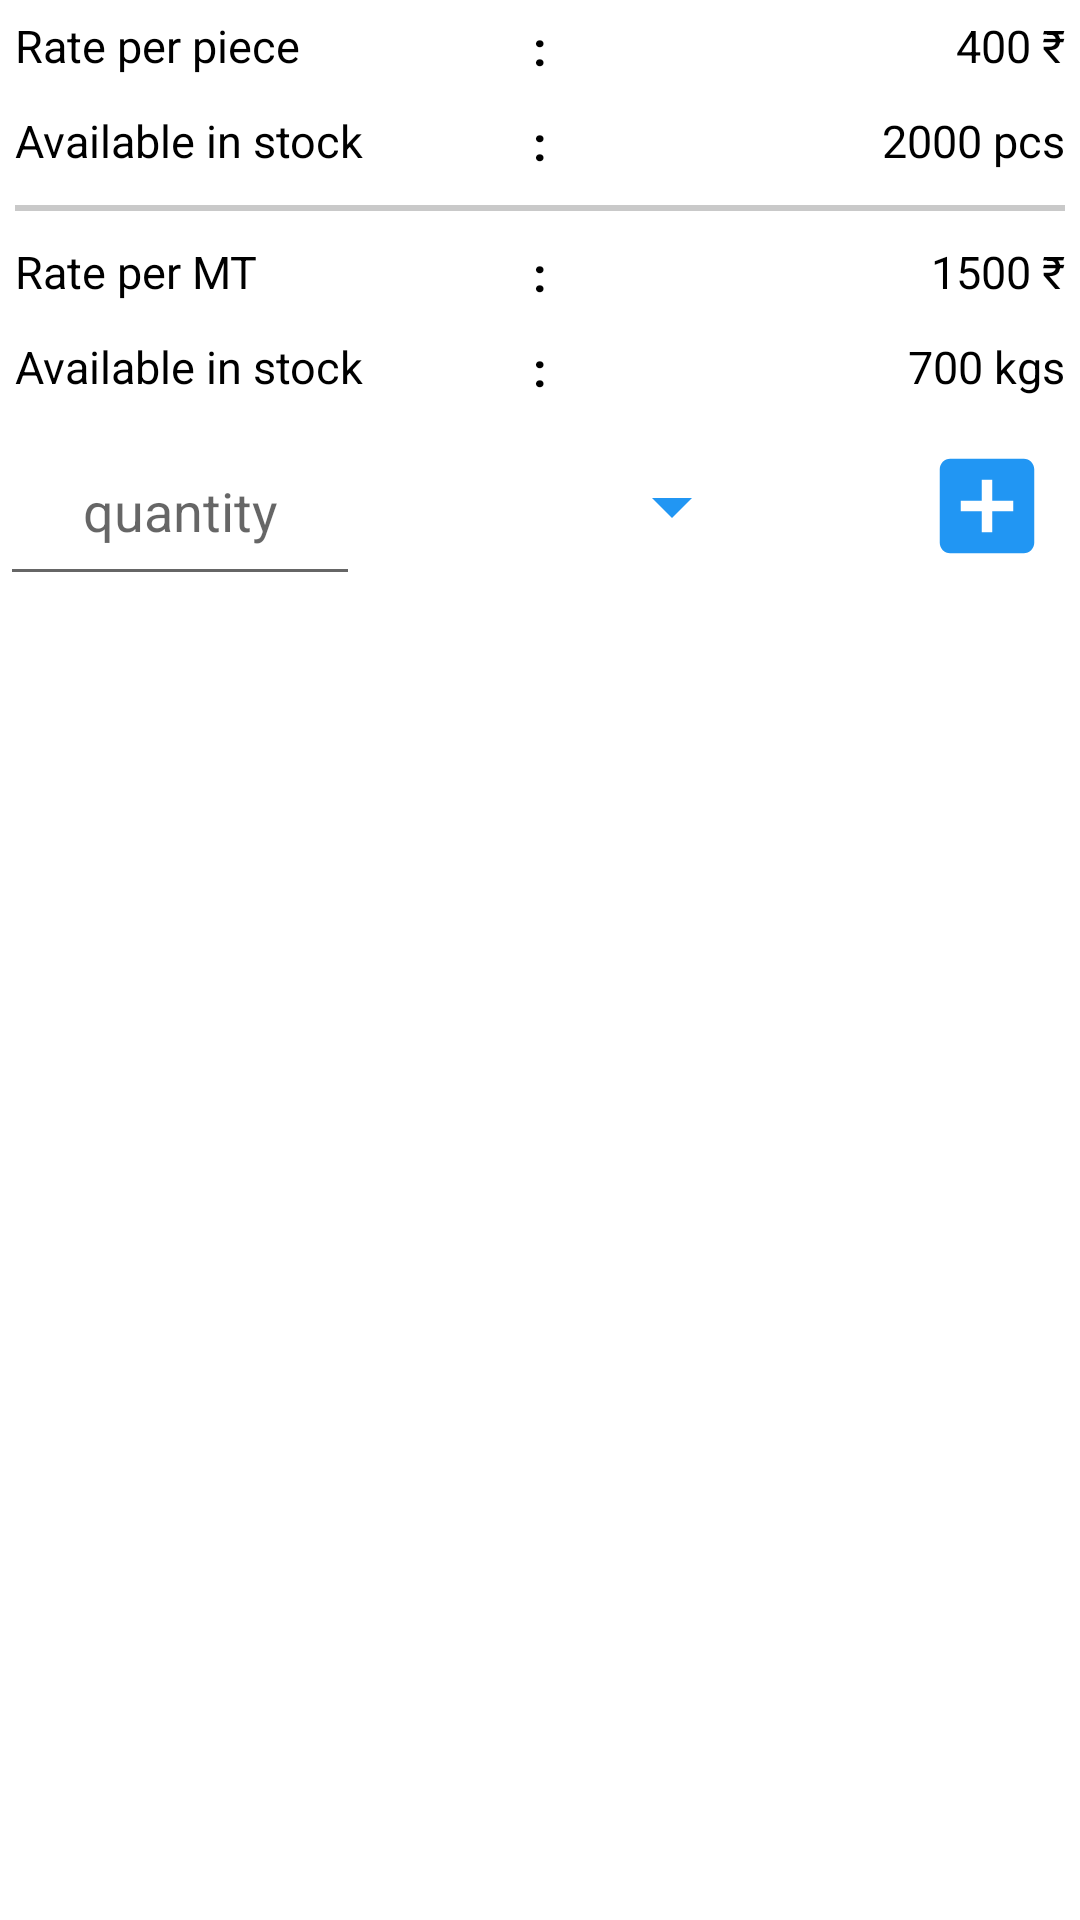

Icon click points for this 1080px×1920px phone screenshot, format (x=x, y=y):
add box: (x=987, y=506)
arrow drop down: (x=672, y=508)
